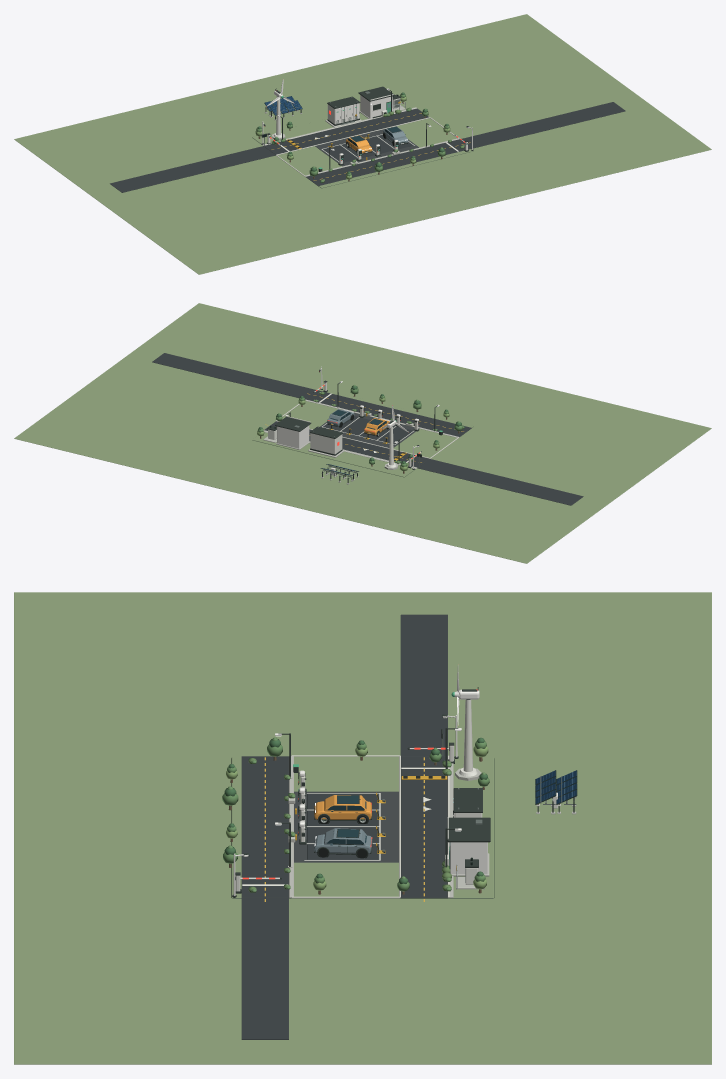
File: energy-campus.glb
3 renders of one model, top to bottom at view 1: azimuth 30°, elevation 25°; view 2: azimuth 150°, elevation 25°; view 3: azimuth 270°, elevation 25°, orthographic. The views are drawn at different scales.
Visible parts, largest first — view 1: Far lawn, Site lawn, West approach, East exit, North road, South road, Bay apron, Building wall; view 2: Far lawn, Site lawn, West approach, East exit, South road, North road, Bay apron, Building wall, Storage shell; view 3: Far lawn, Site lawn, East exit, West approach, South road, North road, Bay apron, Building roof, Building wall, Storage roof.
Boxes of the visible parts, <box> form: Far lawn: <box>14,14,711,274</box>; Site lawn: <box>252,101,473,188</box>; West approach: <box>110,146,275,192</box>; East exit: <box>460,102,625,148</box>; North road: <box>264,108,428,154</box>; South road: <box>306,139,471,186</box>; Bay apron: <box>315,129,418,166</box>; Building wall: <box>360,95,392,118</box>; Far lawn: <box>14,303,711,563</box>; Site lawn: <box>252,389,473,477</box>; West approach: <box>417,459,583,505</box>; East exit: <box>152,353,317,399</box>; South road: <box>306,390,471,437</box>; North road: <box>264,421,429,467</box>; Bay apron: <box>320,412,419,447</box>; Building wall: <box>277,425,309,448</box>; Storage shell: <box>310,433,342,454</box>; Far lawn: <box>14,592,711,1064</box>; Site lawn: <box>231,757,494,897</box>; East exit: <box>241,898,288,1039</box>; West approach: <box>400,614,447,756</box>; South road: <box>241,756,288,897</box>; North road: <box>401,756,447,898</box>; Bay apron: <box>294,791,398,862</box>; Building roof: <box>447,817,490,842</box>; Building wall: <box>450,842,487,874</box>; Storage roof: <box>453,788,482,812</box>.
Size of the model in its own units: 80 by 9.55 by 50.
